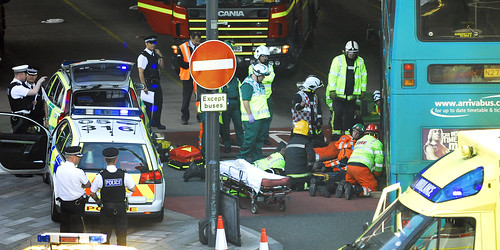ambulance: (349, 139, 500, 250)
firefighter: (328, 38, 374, 127), (238, 62, 274, 156), (285, 74, 323, 140), (281, 123, 319, 189)
policeman: (96, 149, 131, 250), (55, 148, 90, 249), (7, 56, 42, 157), (138, 32, 173, 133), (176, 32, 201, 118)
sign: (185, 36, 238, 90)
